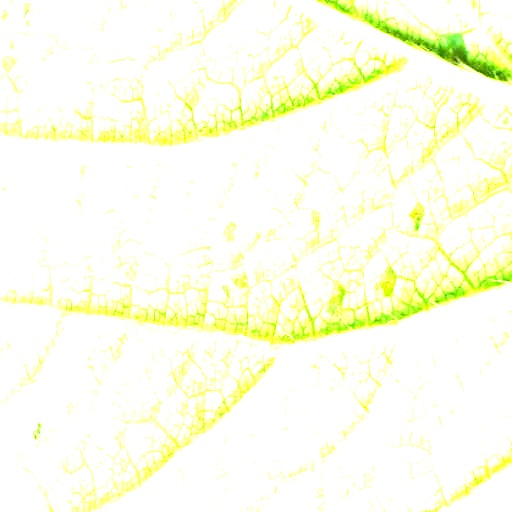Angular Leafspot: (18, 406, 59, 457)
